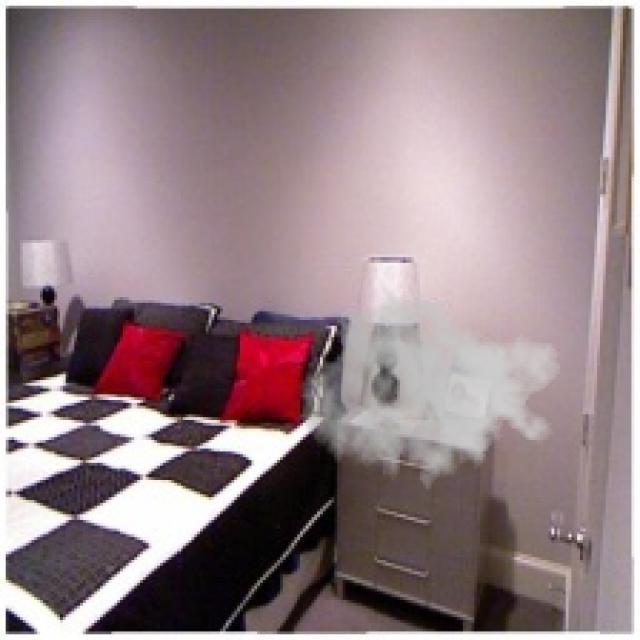Smoke: (300, 283, 563, 500)
